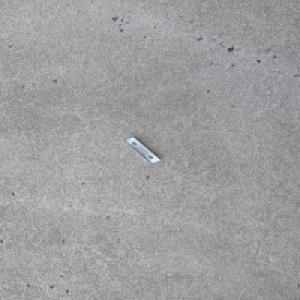ClampPart: (122, 136, 161, 164)
